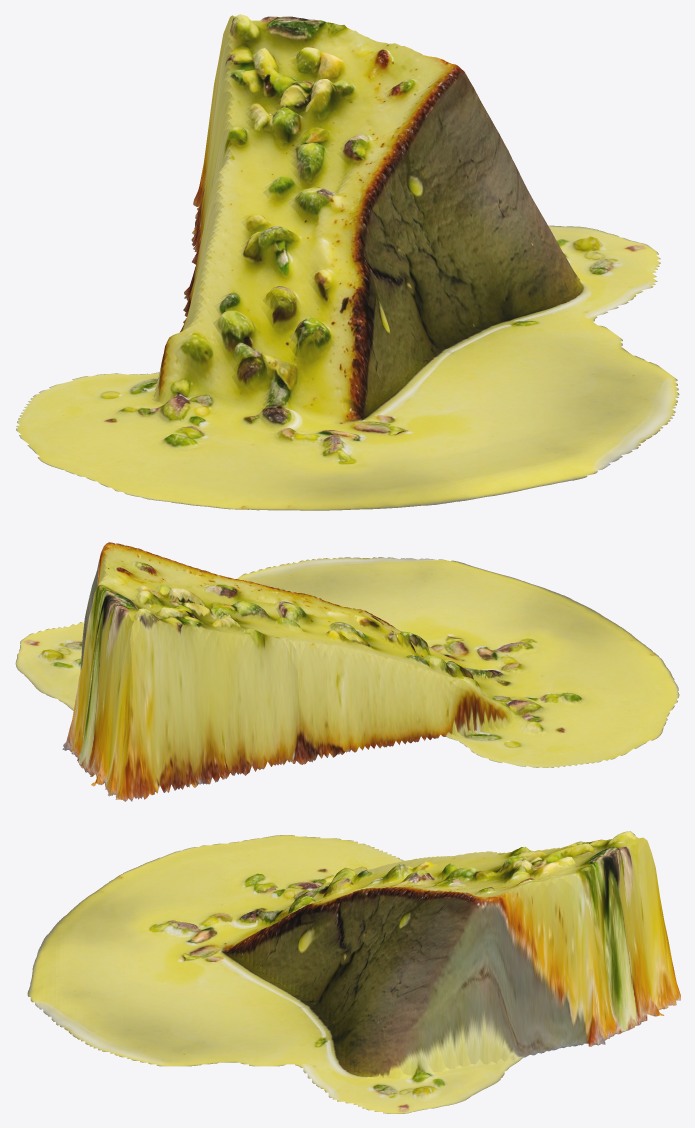
Rendered from tg-39-pistachio-cheesecake-3d.glb.
3 renders of one model, top to bottom at view 1: azimuth 30°, elevation 25°; view 2: azimuth 150°, elevation 25°; view 3: azimuth 270°, elevation 25°, orthographic. The views are drawn at different scales.
Bounding box in the file's own units: 0.1765 × 0.0498 × 0.1783.
1 material, 1 textured.
